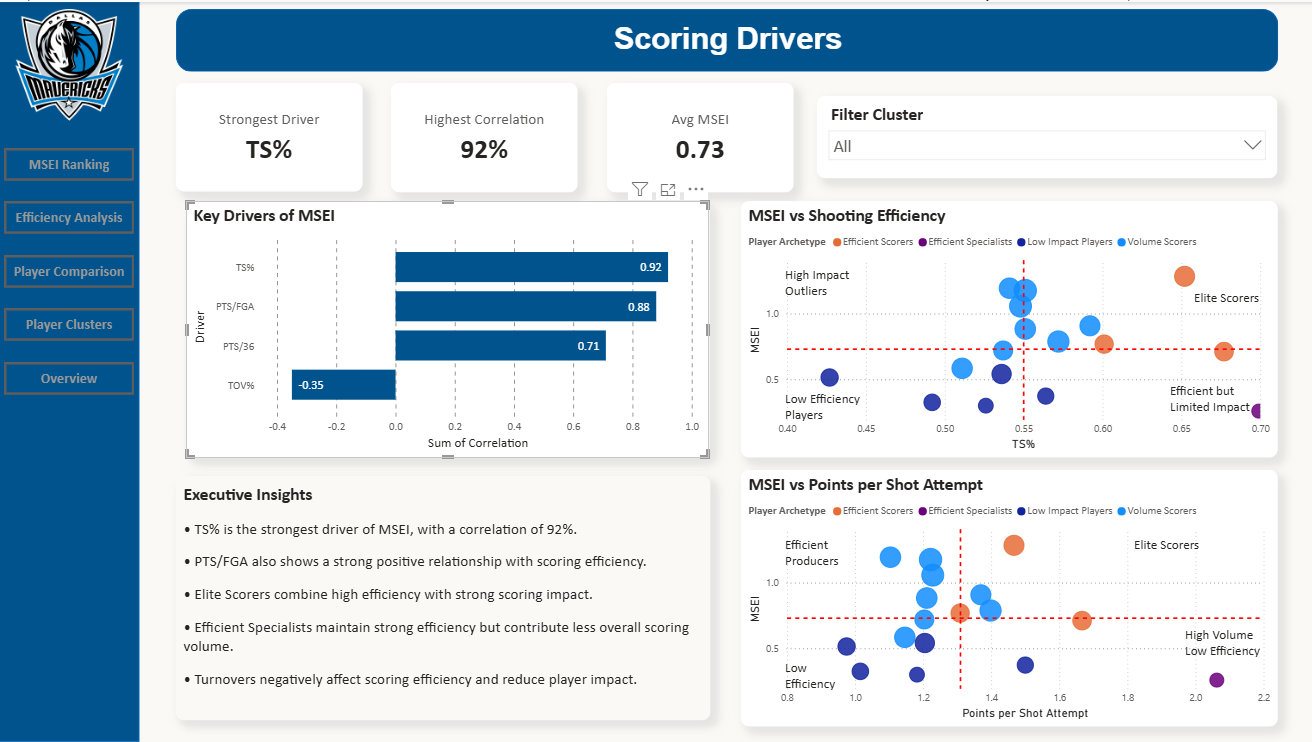

What the dashboard file says about the page in this screenshot:
{"tool":"powerbi","page":{"name":"Scoring Drivers","canvas":[1600,900],"ordinal":5},"visuals":[{"type":"shape","box":[0,0,170.7,900],"z":0},{"type":"image","box":[5.5,8.9,158.5,136.3],"z":1000},{"type":"actionButton","box":[5.5,177.3,158.5,39.9],"z":2000},{"type":"actionButton","box":[5.5,242.5,158.5,39.9],"z":3000},{"type":"actionButton","box":[5.5,307.6,158.5,39.9],"z":4000},{"type":"actionButton","box":[5.5,372.7,158.5,39.9],"z":5000},{"type":"actionButton","box":[5.5,437.8,158.5,39.9],"z":6000},{"type":"shape","box":[215,8.9,1341.1,76.5],"z":7000},{"type":"textbox","box":[227.2,17.7,1319,59.9],"z":8000},{"type":"cardVisual","fields":{"Data":["Driver Correlation.Strongest Driver"]},"box":[215.2,98.5,227,132],"z":9000},{"type":"cardVisual","fields":{"Data":["Driver Correlation.Highest Correlation"]},"box":[476.6,98.5,227.4,132.5],"z":10000},{"type":"cardVisual","fields":{"Data":["mavericks_scoring_efficiency_dashboard.Avg MSEI"]},"box":[739.2,98.5,227.4,132.5],"z":11000},{"type":"clusteredBarChart","title":"Key Drivers of MSEI","fields":{"Category":["Driver Correlation.Driver"],"Y":["Sum(Driver Correlation.Correlation)"]},"box":[227.4,241.9,637.1,312.5],"z":12000},{"type":"scatterChart","title":"MSEI vs Shooting Efficiency","fields":{"X":["mavericks_scoring_efficiency_dashboard.TS%"],"Y":["mavericks_scoring_efficiency_dashboard.MSEI"],"Series":["mavericks_scoring_efficiency_dashboard.Cluster_Name"],"Size":["Sum(mavericks_scoring_efficiency_dashboard.Projected_PTS_36)"]},"box":[903.3,241.9,652.9,312.5],"z":13000},{"type":"textbox","box":[1398,457.5,121.7,56],"z":14000},{"type":"textbox","box":[1449.2,345.3,92.4,55.9],"z":15000},{"type":"textbox","box":[952,317.3,98.5,55.9],"z":16000},{"type":"textbox","box":[952,468.1,116.7,55.9],"z":17000},{"type":"scatterChart","title":"MSEI vs Points per Shot Attempt","fields":{"Y":["mavericks_scoring_efficiency_dashboard.MSEI"],"Series":["mavericks_scoring_efficiency_dashboard.Cluster_Name"],"Size":["Sum(mavericks_scoring_efficiency_dashboard.Projected_PTS_36)"],"X":["Sum(mavericks_scoring_efficiency_dashboard.PTS_per_FGA)"]},"box":[903.3,569,652.9,312.5],"z":18000},{"type":"textbox","box":[1376.3,645.6,92.4,41.3],"z":19000},{"type":"textbox","box":[952,645.6,98.5,51.1],"z":20000},{"type":"textbox","box":[952,795.1,98.5,51.1],"z":21000},{"type":"textbox","box":[1438.2,755.6,114.4,64.5],"z":22000},{"type":"textbox","box":[215.4,576.7,649.7,296.9],"z":23000},{"type":"slicer","fields":{"Values":["mavericks_scoring_efficiency_dashboard.Cluster_Name"]},"box":[995.7,114.3,560.5,99.7],"z":24000}]}

Visuals, with their boxes in screenshot pixels (x1, y1, x2, y2), scaled from the page's 1600x900 canvas onto the 1312x742 screenshot:
shape: l=0, t=0, r=140, b=741
image: l=5, t=7, r=134, b=120
actionButton: l=5, t=146, r=134, b=179
actionButton: l=5, t=200, r=134, b=233
actionButton: l=5, t=254, r=134, b=286
actionButton: l=5, t=307, r=134, b=340
actionButton: l=5, t=361, r=134, b=394
shape: l=176, t=7, r=1276, b=70
textbox: l=186, t=15, r=1268, b=64
cardVisual - Driver Correlation.Strongest Driver: l=176, t=81, r=363, b=190
cardVisual - Driver Correlation.Highest Correlation: l=391, t=81, r=577, b=190
cardVisual - mavericks_scoring_efficiency_dashboard.Avg MSEI: l=606, t=81, r=793, b=190
"Key Drivers of MSEI" clusteredBarChart: l=186, t=199, r=709, b=457
"MSEI vs Shooting Efficiency" scatterChart: l=741, t=199, r=1276, b=457
textbox: l=1146, t=377, r=1246, b=423
textbox: l=1188, t=285, r=1264, b=331
textbox: l=781, t=262, r=861, b=308
textbox: l=781, t=386, r=876, b=432
"MSEI vs Points per Shot Attempt" scatterChart: l=741, t=469, r=1276, b=727
textbox: l=1129, t=532, r=1204, b=566
textbox: l=781, t=532, r=861, b=574
textbox: l=781, t=656, r=861, b=698
textbox: l=1179, t=623, r=1273, b=676
textbox: l=177, t=475, r=709, b=720
slicer - mavericks_scoring_efficiency_dashboard.Cluster_Name: l=816, t=94, r=1276, b=176
